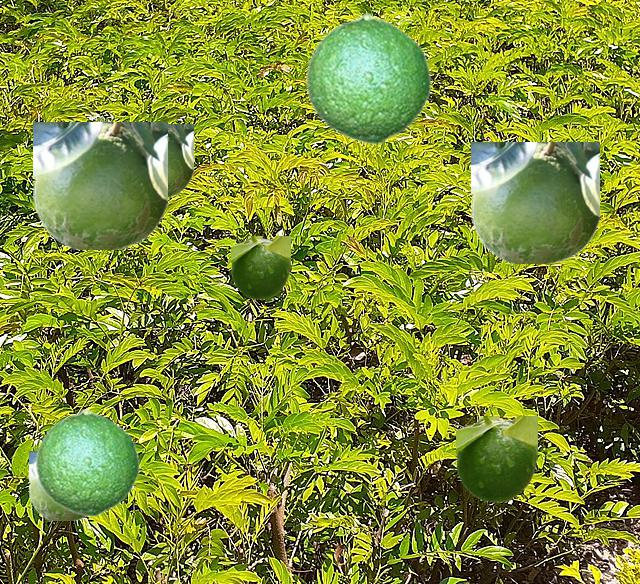dalandan: (304, 12, 431, 144), (33, 122, 166, 248), (471, 142, 598, 262), (34, 408, 139, 516), (456, 416, 536, 501), (29, 451, 87, 519), (231, 236, 289, 298), (167, 124, 192, 197)
